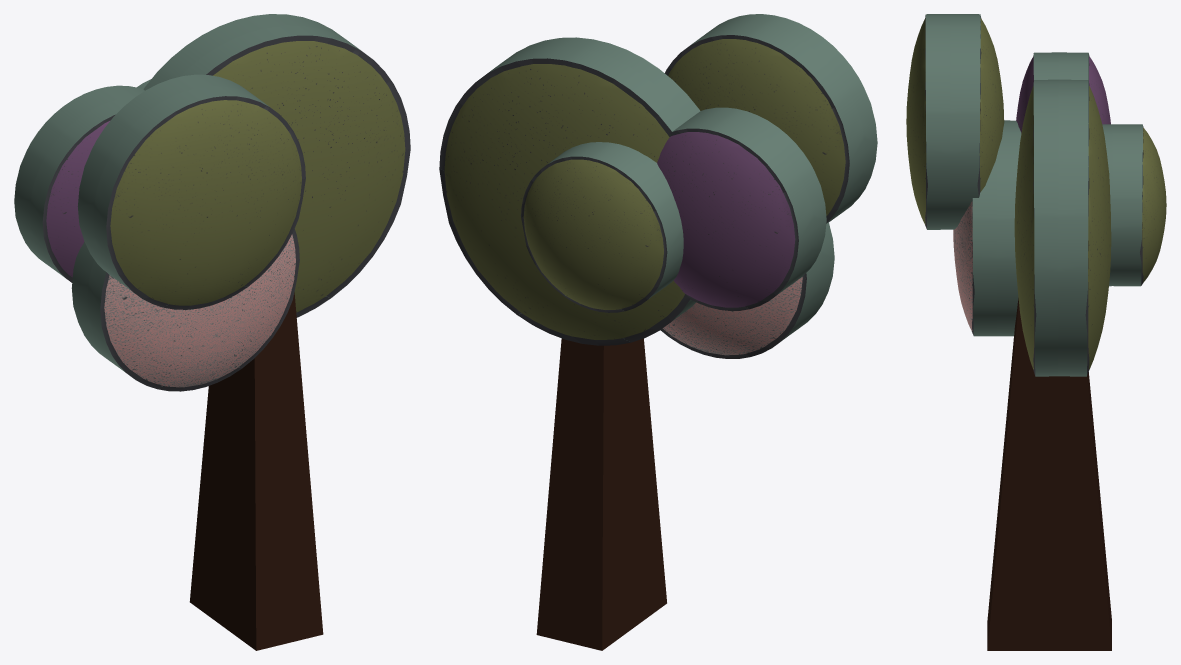
File: Tree 08.fbx
The picture shows the model from 3 angles, left to right: view 1: azimuth 30°, elevation 25°; view 2: azimuth 150°, elevation 25°; view 3: azimuth 270°, elevation 25°; orthographic projection. The views are drawn at different scales.
Parts seen in each view (by area): view 1: tree_31_02, tree_31_04, tree_31_trunk, tree_31_03, tree_31_00; view 2: tree_31_04, tree_31_trunk, tree_31_00, tree_31_01, tree_31_02, tree_31_03; view 3: tree_31_trunk, tree_31_04, tree_31_02, tree_31_03, tree_31_01, tree_31_00.
Boxes of the visible parts, bbox=[...] form: tree_31_02: bbox=[77, 74, 305, 309]; tree_31_04: bbox=[143, 14, 410, 317]; tree_31_trunk: bbox=[189, 292, 323, 650]; tree_31_03: bbox=[71, 229, 299, 391]; tree_31_00: bbox=[14, 85, 144, 282]; tree_31_04: bbox=[439, 37, 700, 345]; tree_31_trunk: bbox=[536, 338, 666, 650]; tree_31_00: bbox=[657, 107, 826, 310]; tree_31_01: bbox=[521, 142, 683, 312]; tree_31_02: bbox=[665, 14, 877, 223]; tree_31_03: bbox=[660, 222, 834, 358]; tree_31_trunk: bbox=[987, 298, 1111, 650]; tree_31_04: bbox=[1014, 79, 1111, 376]; tree_31_02: bbox=[906, 14, 1004, 229]; tree_31_03: bbox=[953, 120, 1021, 336]; tree_31_01: bbox=[1102, 124, 1166, 286]; tree_31_00: bbox=[1016, 52, 1110, 132].
Size of the model in its own units: 14.7 by 22.76 by 9.61.
